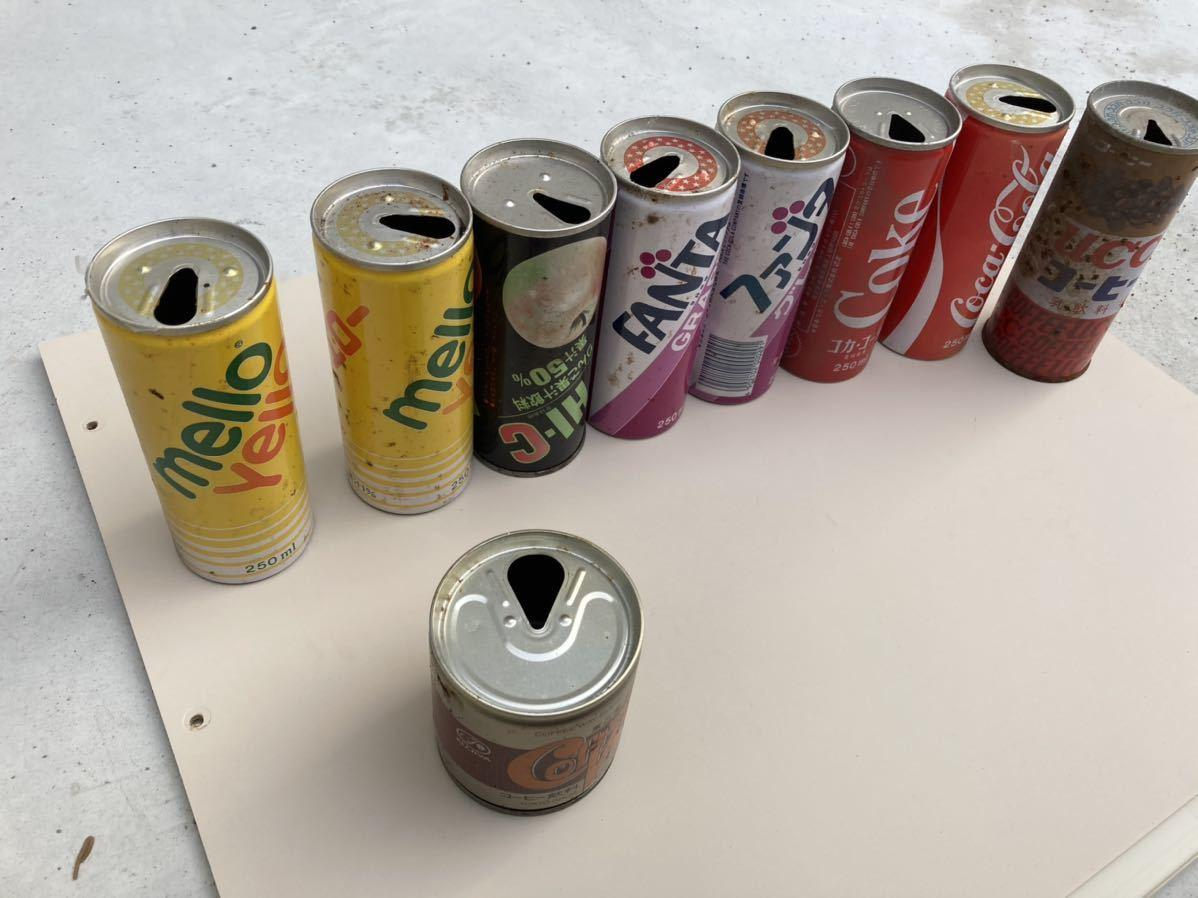metal: (78, 210, 317, 585), (422, 533, 645, 822), (1008, 73, 1198, 396), (305, 167, 481, 509), (900, 57, 1061, 388), (790, 73, 949, 395), (455, 143, 609, 468), (600, 115, 722, 437), (713, 93, 834, 413)
